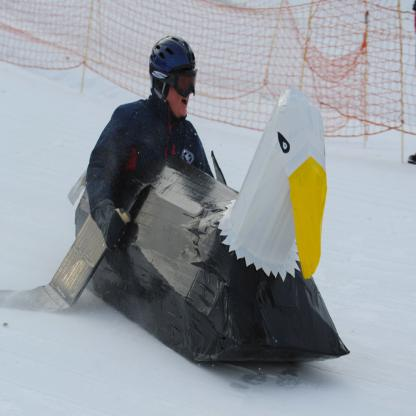Helmet: (147, 32, 199, 116)
